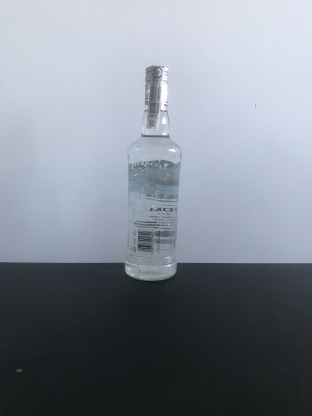nakretka: (142, 61, 170, 109)
